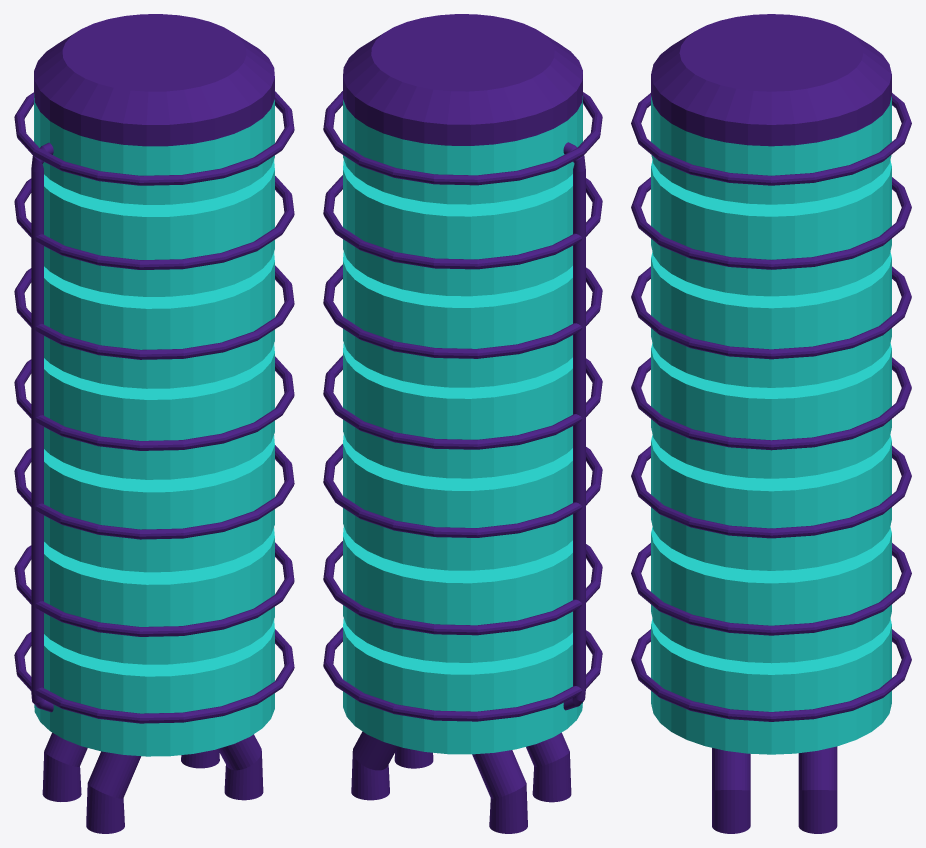
Rendered from Building2 .fbx.
3 views of the same model, side by side, from view 1: azimuth 30°, elevation 25°; view 2: azimuth 150°, elevation 25°; view 3: azimuth 270°, elevation 25° (orthographic).
Visible parts, largest first — view 1: Plane.006, Plane.001, Plane.002, Plane, Plane.005, Plane.004, Plane.003, Cylinder.004, Torus.006, Torus.004, Torus.002, Torus (+7 smaller); view 2: Plane.006, Plane.002, Plane.001, Plane, Plane.005, Plane.004, Plane.003, Cylinder.004, Torus.006, Torus.003, Torus.004, Torus.005 (+7 smaller); view 3: Plane.006, Plane.001, Plane.002, Plane.005, Plane, Plane.004, Plane.003, Torus.005, Torus.003, Torus.004, Torus.002, Torus (+4 smaller).
Boxes of the visible parts, x1,y1,x2,y2 form: Plane.006: (34,14,274,204); Plane.001: (44,527,274,664); Plane.002: (44,435,274,572); Plane: (34,619,274,756); Plane.005: (44,160,274,296); Plane.004: (44,252,274,388); Plane.003: (44,343,274,479); Cylinder.004: (31,142,53,712); Torus.006: (14,91,294,185); Torus.004: (14,265,294,359); Torus.002: (14,445,294,539); Torus: (14,629,294,723); Plane.006: (343,14,582,204); Plane.002: (343,434,572,570); Plane.001: (343,526,572,662); Plane: (343,618,582,754); Plane.005: (343,160,572,296); Plane.004: (343,251,572,387); Plane.003: (343,343,572,478); Cylinder.004: (563,142,585,710); Torus.006: (323,91,602,185); Torus.003: (323,355,602,449); Torus.004: (323,264,602,358); Torus.005: (323,175,602,269); Plane.006: (651,14,891,204); Plane.001: (651,527,891,663); Plane.002: (651,435,891,570); Plane.005: (651,160,891,296); Plane: (651,618,891,754); Plane.004: (651,252,891,387); Plane.003: (651,343,891,478); Torus.005: (631,177,911,269); Torus.003: (631,357,911,450); Torus.004: (631,266,911,359); Torus.002: (631,445,911,538); Torus: (631,629,911,721).
Bounding box in the file's own units: 296 × 859 × 296.
